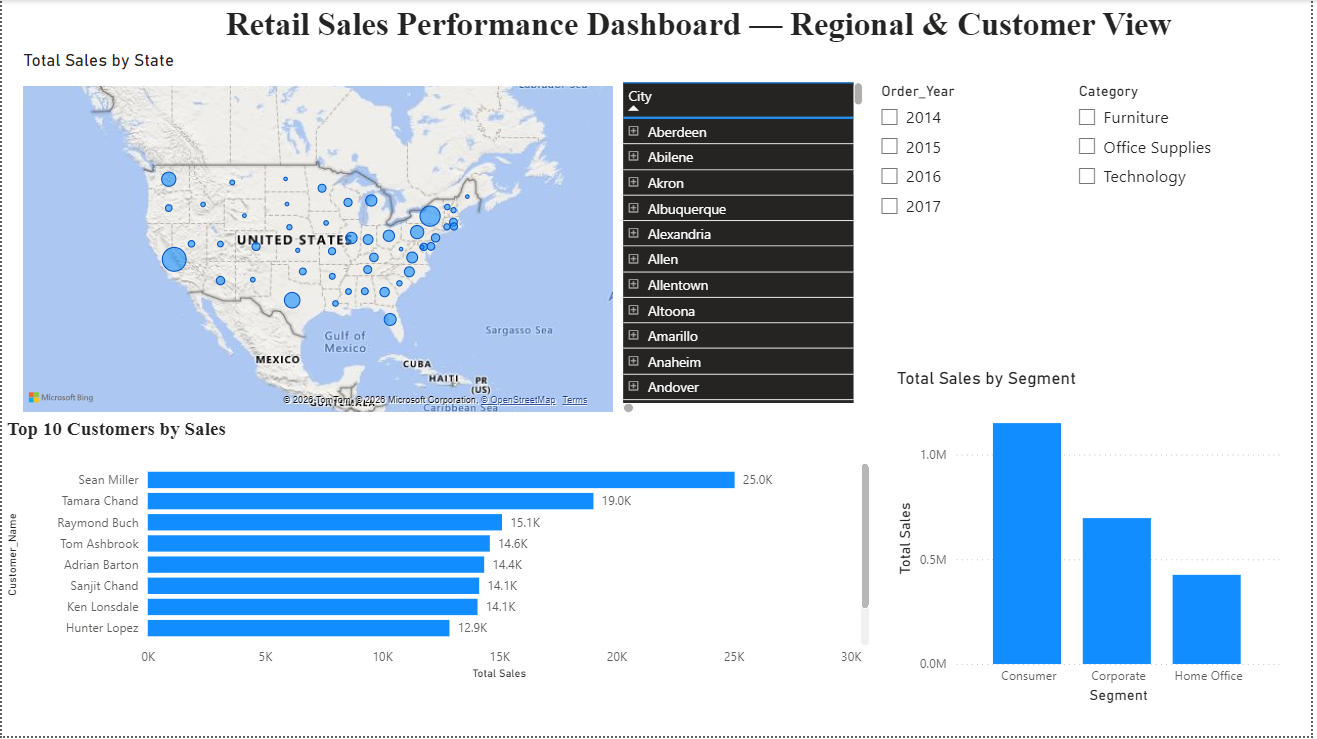

Layout of this report page (visuals, bound fields, positions):
{"tool":"powerbi","page":{"name":"Regional/Customer View","canvas":[1280,720],"ordinal":2},"visuals":[{"type":"map","fields":{"Category":["cleaned_superstore.State"],"Size":["cleaned_superstore.Total Sales"]},"box":[15.9,48.9,587,359.5],"z":0},{"type":"clusteredColumnChart","fields":{"Y":["cleaned_superstore.Total Sales"],"Category":["cleaned_superstore.Segment"]},"box":[870.7,359.5,385.2,333.8],"z":1000},{"type":"textbox","box":[16,458,422,262],"z":2000},{"type":"textbox","box":[214,0,953.8,48.9],"z":3000},{"type":"pivotTable","fields":{"Rows":["cleaned_superstore.City","cleaned_superstore.Region","cleaned_superstore.State"],"Values":["cleaned_superstore.Total Profit","cleaned_superstore.Total Sales"]},"box":[602.9,75.8,244.6,332.6],"z":4000},{"type":"clusteredBarChart","title":"Top 10 Customers by Sales","fields":{"Y":["cleaned_superstore.Total Sales"],"Category":["cleaned_superstore.Customer_Name"]},"box":[0,408.4,853.5,261.7],"z":5000},{"type":"slicer","fields":{"Values":["cleaned_superstore.Order_Year"]},"box":[847.4,75.8,177.3,283.7],"z":6000},{"type":"slicer","fields":{"Values":["cleaned_superstore.Category"]},"box":[1040.6,75.8,215,284],"z":7000}]}

Visuals, with their boxes in screenshot pixels (x1, y1, x2, y2), scaled from the page's 1280x720 canvas onto the 1317x739 screenshot:
map - cleaned_superstore.State x cleaned_superstore.Total Sales: [left=16, top=50, right=620, bottom=419]
clusteredColumnChart - cleaned_superstore.Total Sales x cleaned_superstore.Segment: [left=896, top=369, right=1292, bottom=712]
textbox: [left=16, top=470, right=451, bottom=738]
textbox: [left=220, top=0, right=1202, bottom=50]
pivotTable - cleaned_superstore.City x cleaned_superstore.Region: [left=620, top=78, right=872, bottom=419]
"Top 10 Customers by Sales" clusteredBarChart: [left=0, top=419, right=878, bottom=688]
slicer - cleaned_superstore.Order_Year: [left=872, top=78, right=1054, bottom=369]
slicer - cleaned_superstore.Category: [left=1071, top=78, right=1292, bottom=369]
